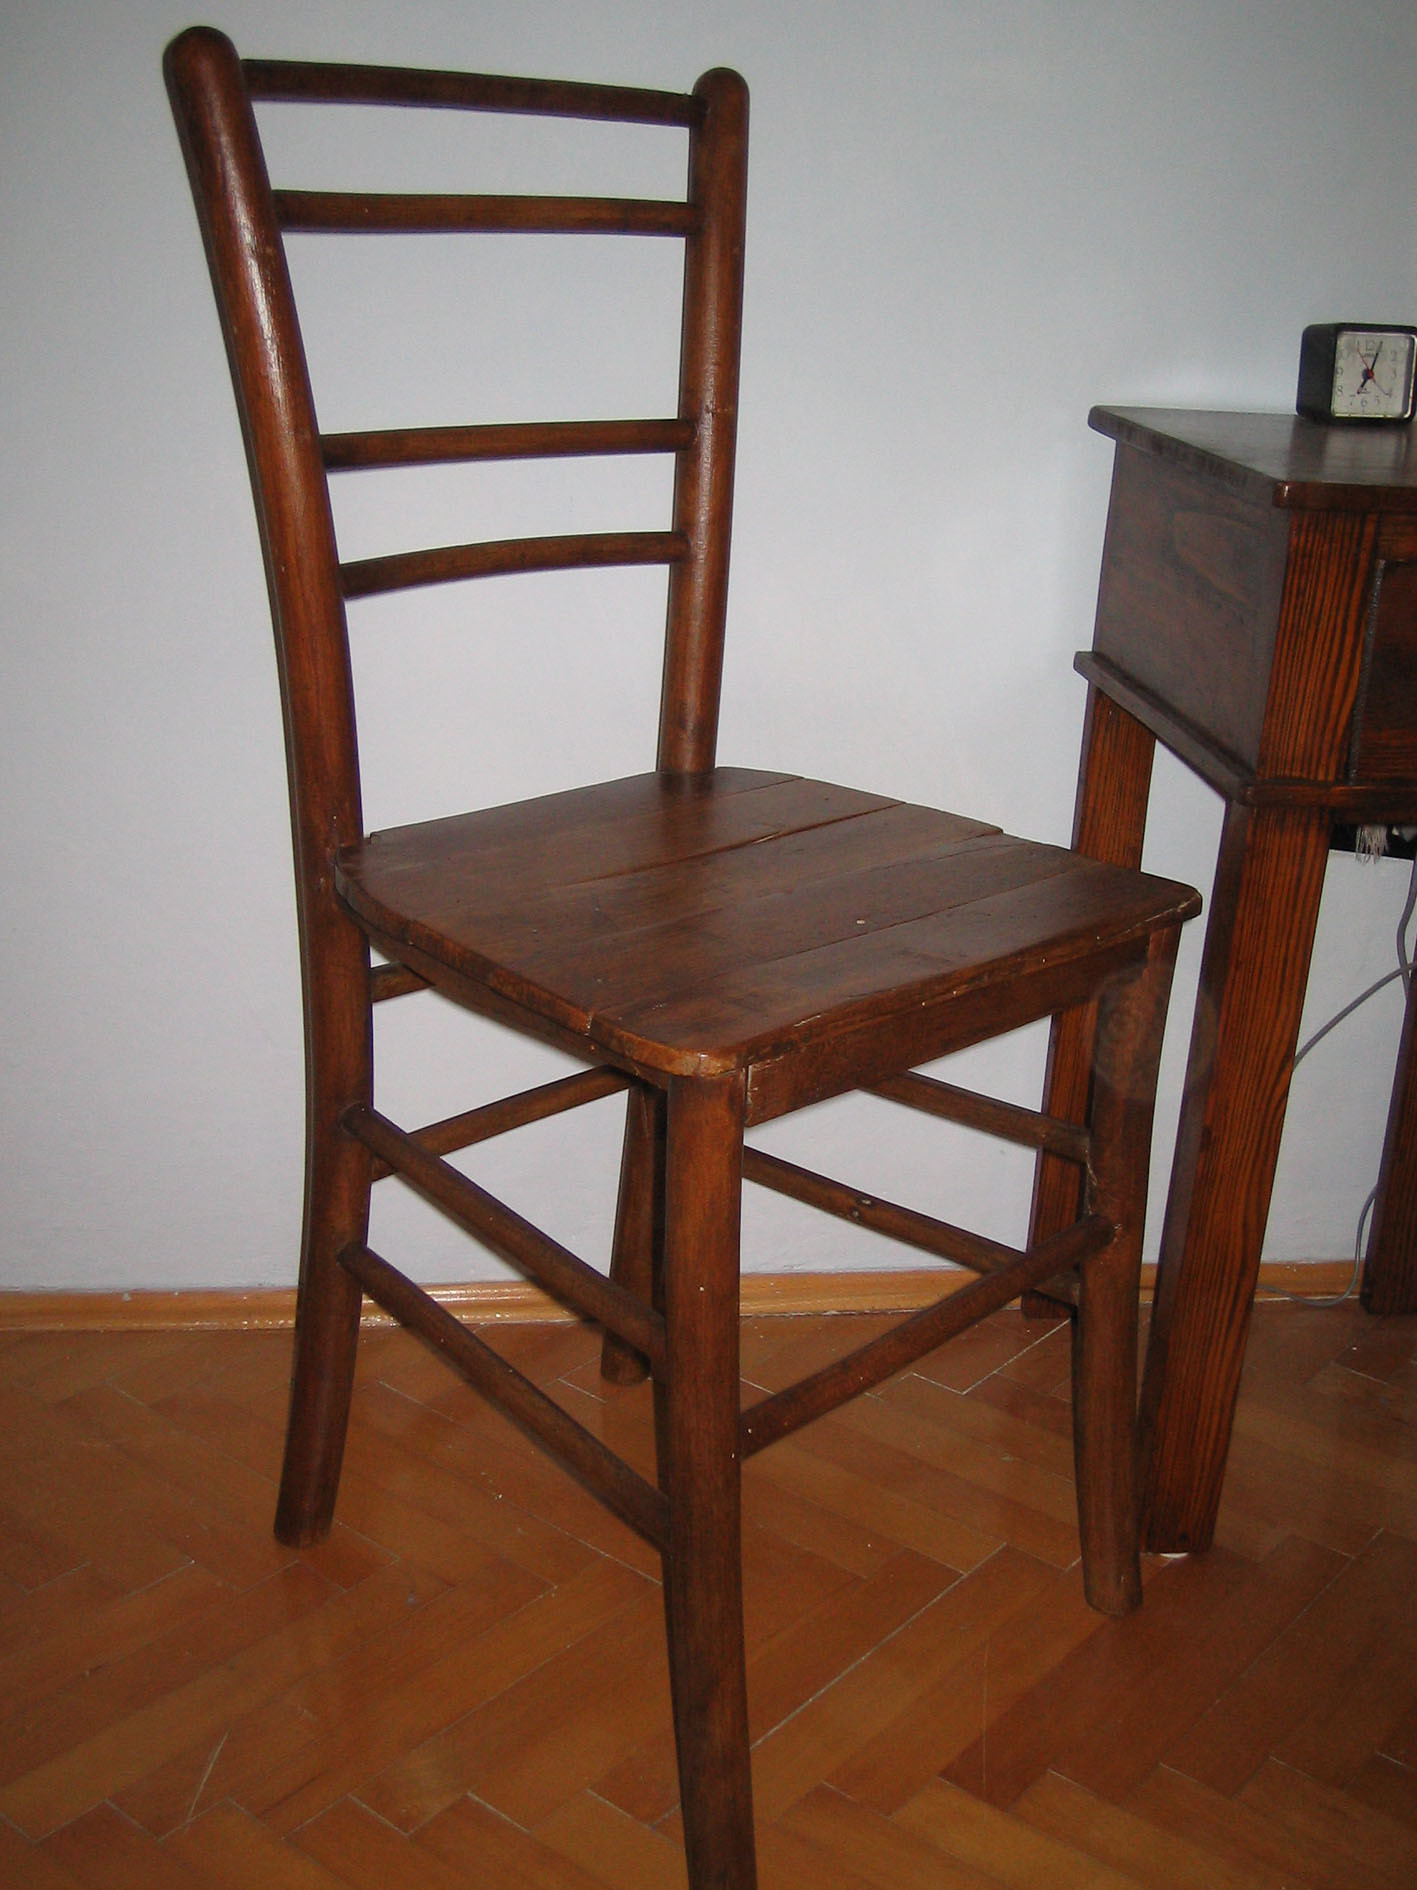chair: (57, 13, 1200, 1877)
